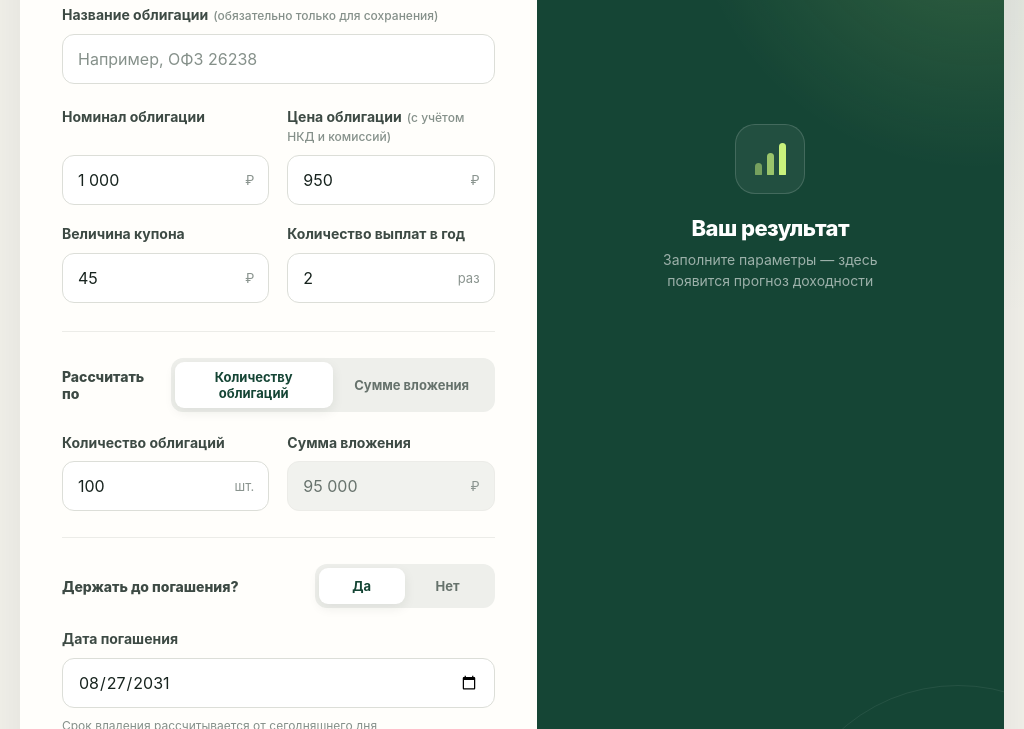
it: BondCalculatorPage › switches purchase and holding modes
(page scrolled)
Click the radio button "Сумме вложения" at x=412, y=384, box x1=354 y1=376 x2=469 y2=392
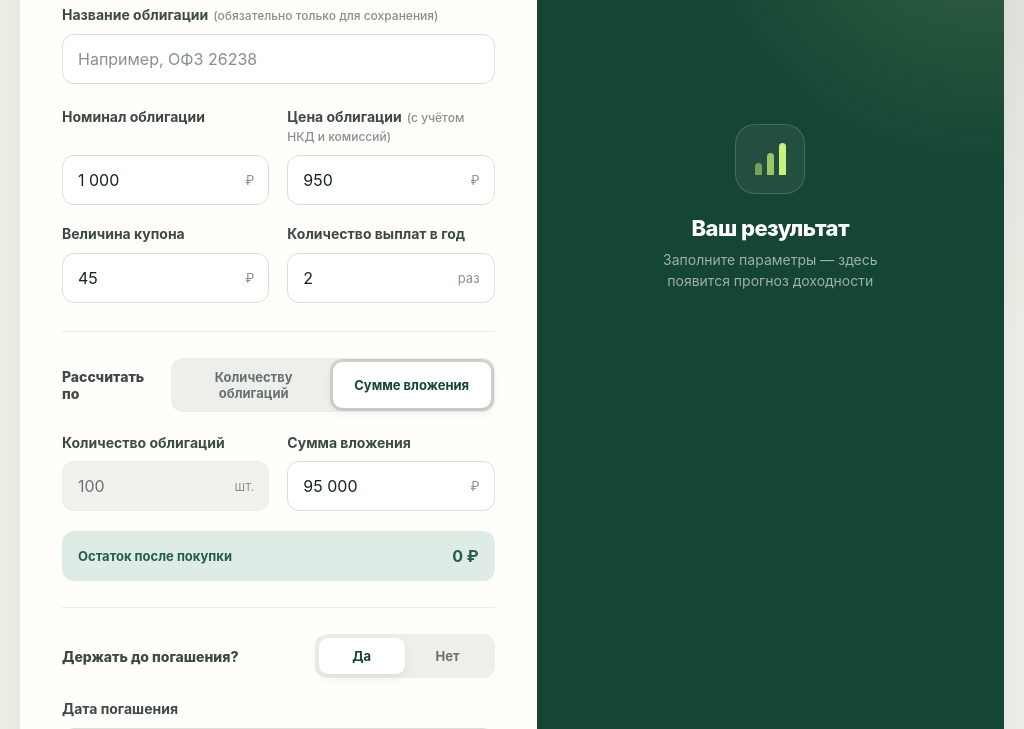
expect the field labelled "Количество облигаций" is disabled: met, box x1=62 y1=461 x2=269 y2=511
expect the text "Остаток после покупки" is shown: met, box x1=78 y1=548 x2=232 y2=564
Click the radio button "Нет" at x=448, y=656, box x1=436 y1=648 x2=460 y2=664
(page scrolled)
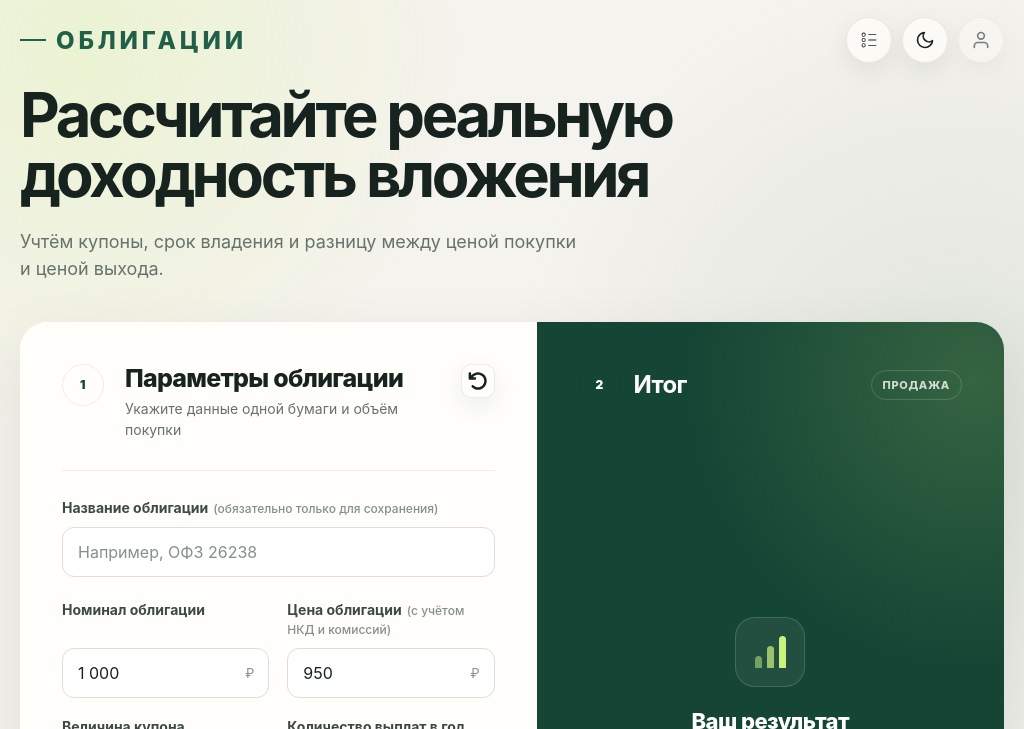
expect the text "Продажа" is shown: met, box x1=870 y1=370 x2=962 y2=400
